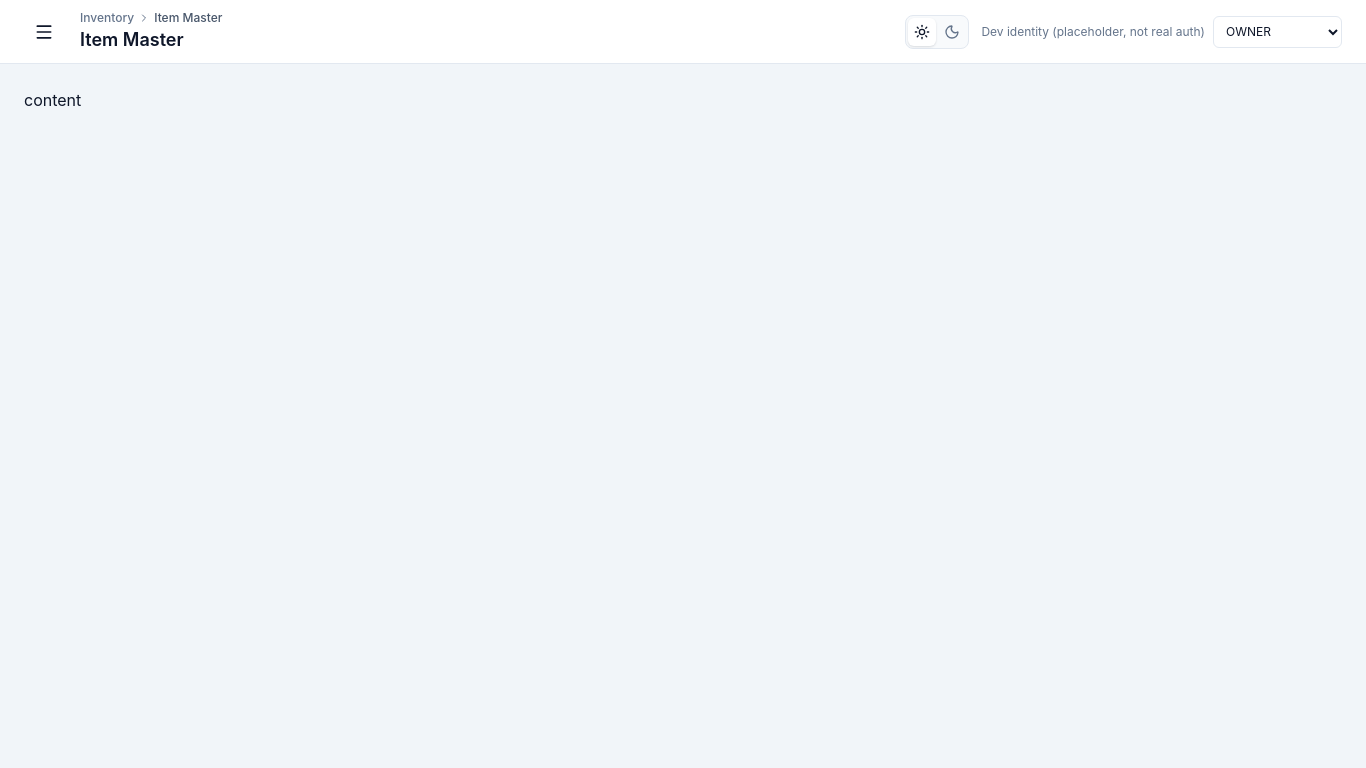
Test: AppShell — mobile drawer (< 768px) › shows no rail, only a menu button that opens a modal drawer with focus inside it
The image size is (1366, 768).
Click the button named "Open navigation" at (44, 32), box x1=24 y1=12 x2=64 y2=52
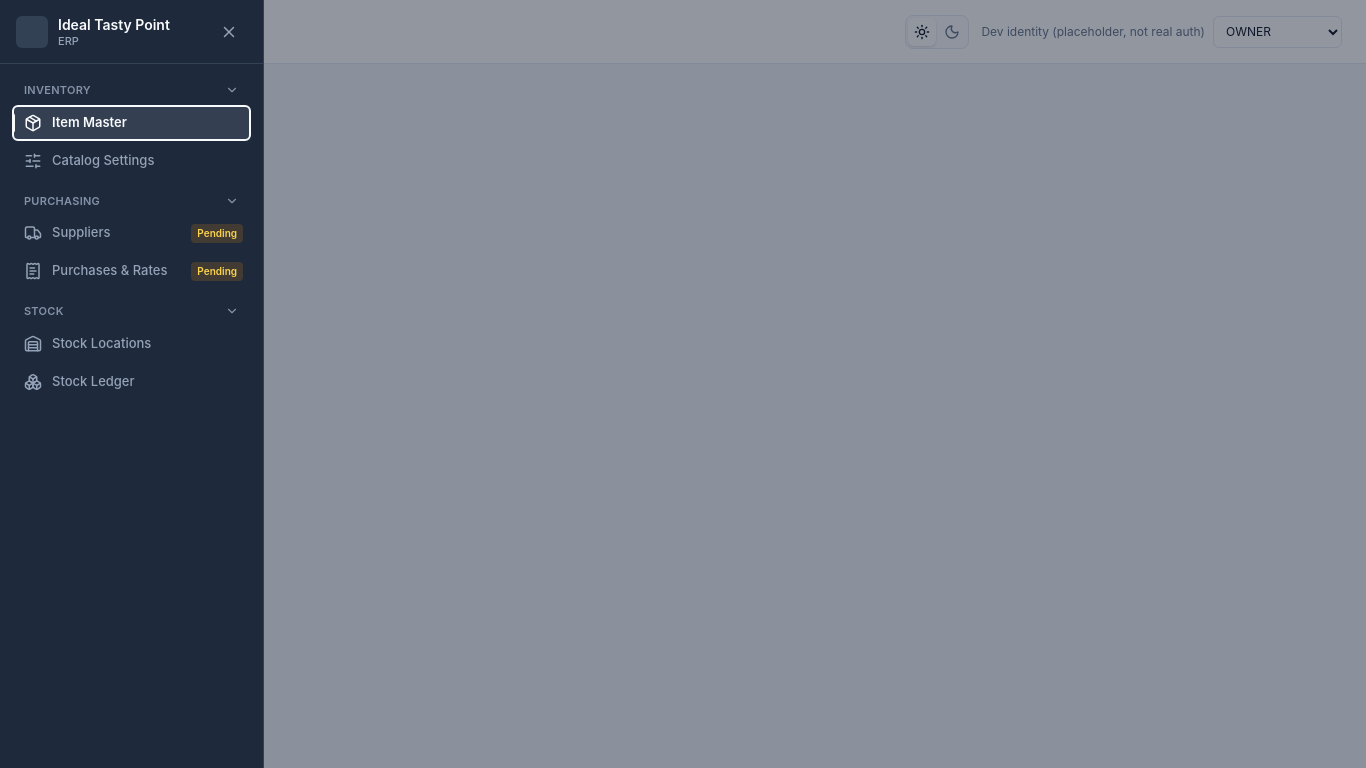
Now the element with test id "sidebar-scrim" is shown
